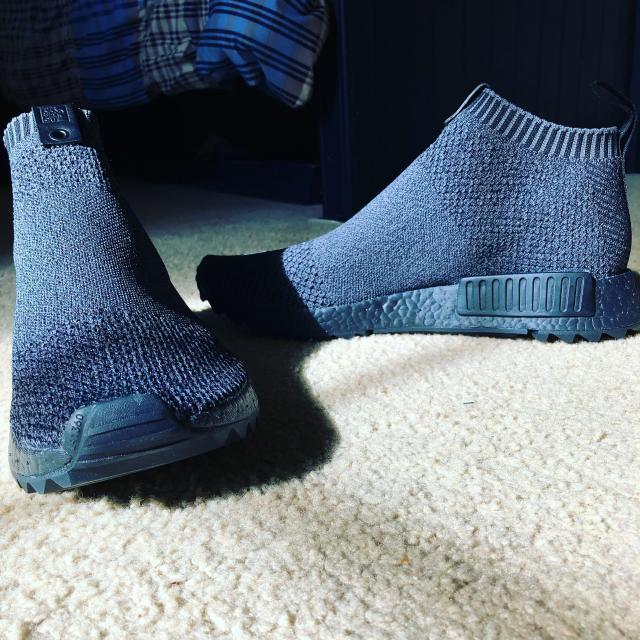shoe: (161, 70, 640, 366), (0, 104, 240, 542)
